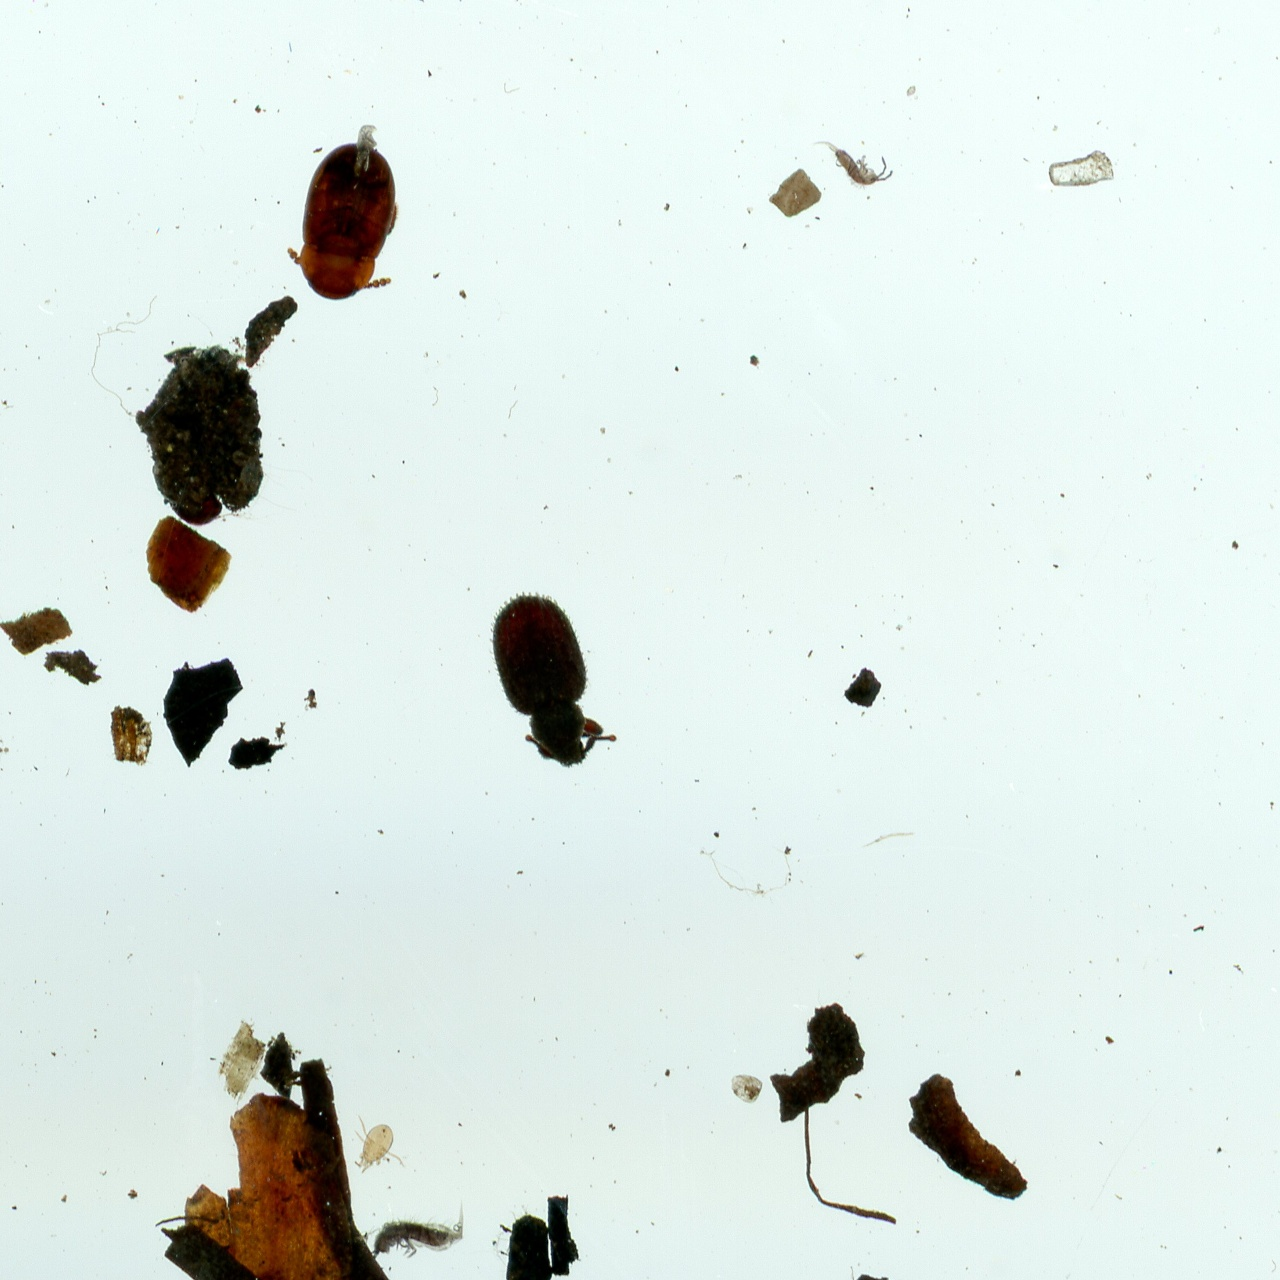arthropod: (275, 108, 423, 315), (475, 586, 625, 770), (367, 1196, 471, 1266), (809, 137, 897, 193), (349, 1108, 410, 1176)
